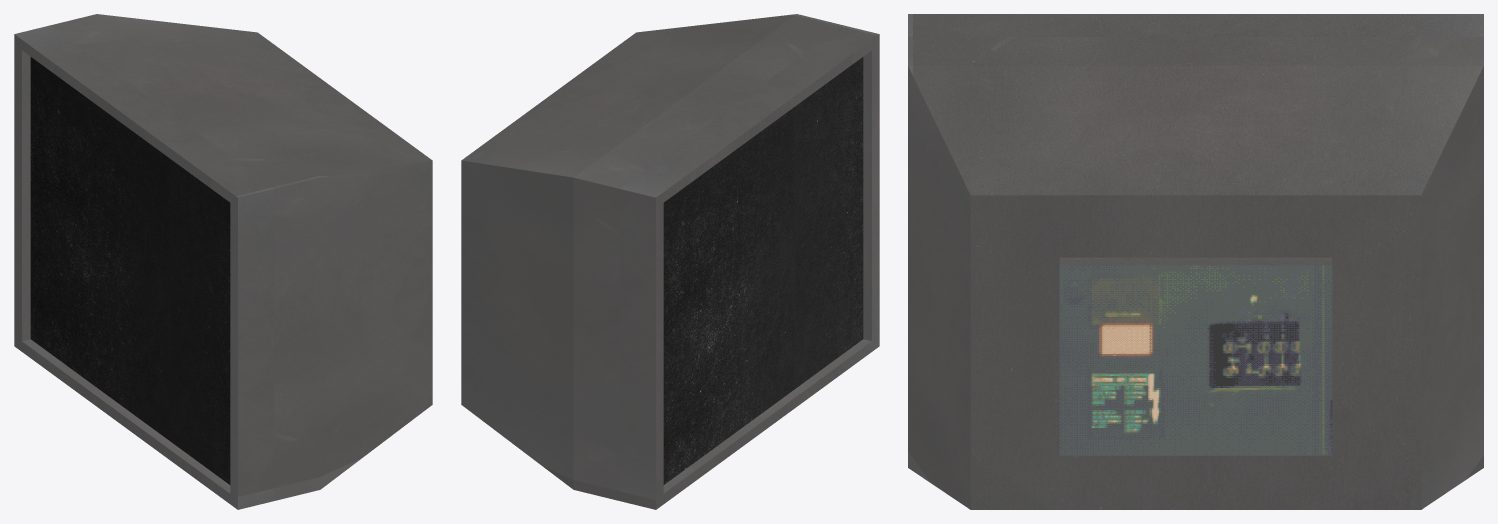
3 views of the same model, side by side, from view 1: azimuth 30°, elevation 25°; view 2: azimuth 150°, elevation 25°; view 3: azimuth 270°, elevation 25° (orthographic). The views are drawn at different scales.
Visible parts, largest first — view 1: pCube32; view 2: pCube32; view 3: pCube32.
Boxes of the visible parts, left/top/right/bottom form: pCube32: left=14, top=14, right=432, bottom=509; pCube32: left=461, top=14, right=879, bottom=509; pCube32: left=908, top=14, right=1483, bottom=509.
Size of the model in its own units: 0.4426 by 0.5703 by 0.7402.
Materials: 3 (3 with a texture image).
